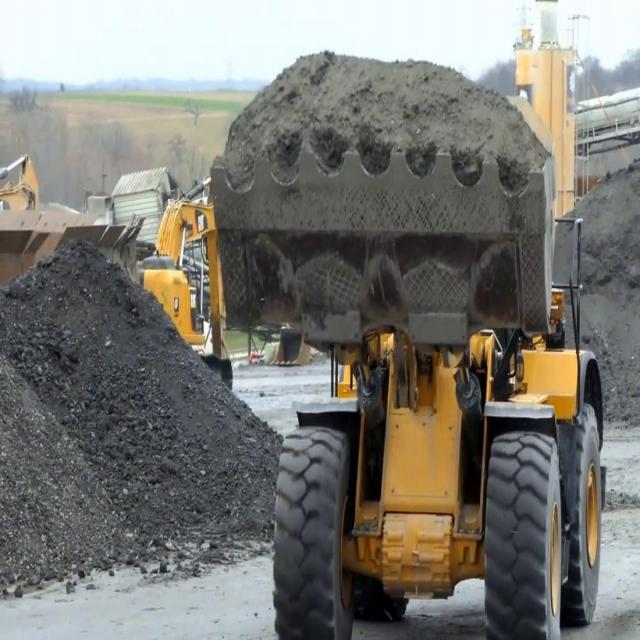Excavator: (137, 158, 232, 396)
Loader: (207, 145, 605, 639)
